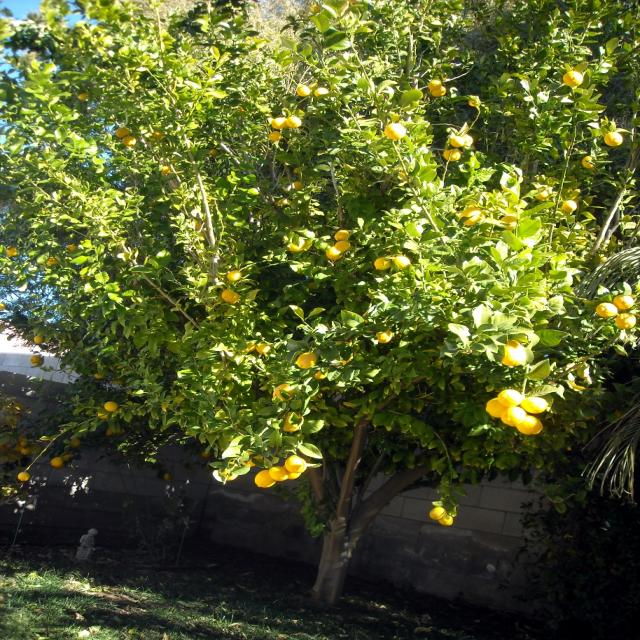lemon: (520, 396, 548, 414), (497, 389, 522, 407), (272, 383, 296, 401), (285, 455, 307, 473), (296, 352, 318, 369), (595, 302, 618, 318), (612, 294, 634, 310), (268, 466, 290, 482), (104, 401, 118, 412)
